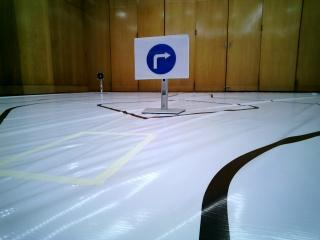right: (132, 37, 190, 80)
